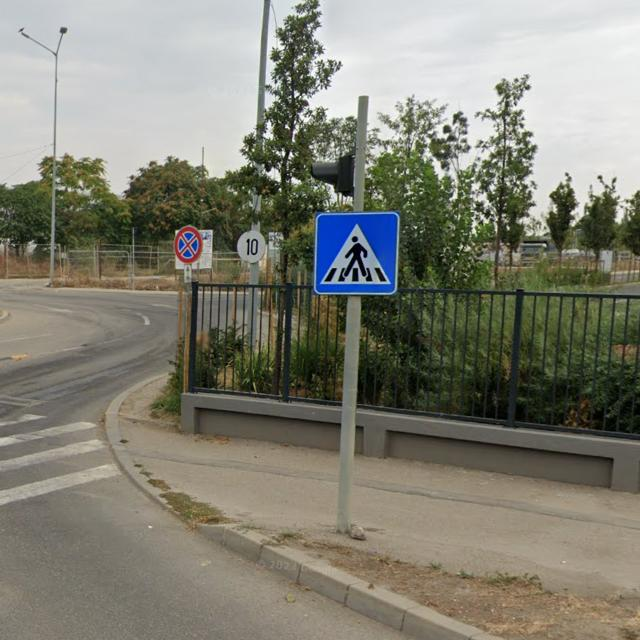forb_speed_over_10: (238, 230, 266, 264)
forb_stopping: (174, 226, 203, 264)
info_crosswalk: (312, 211, 400, 295)
